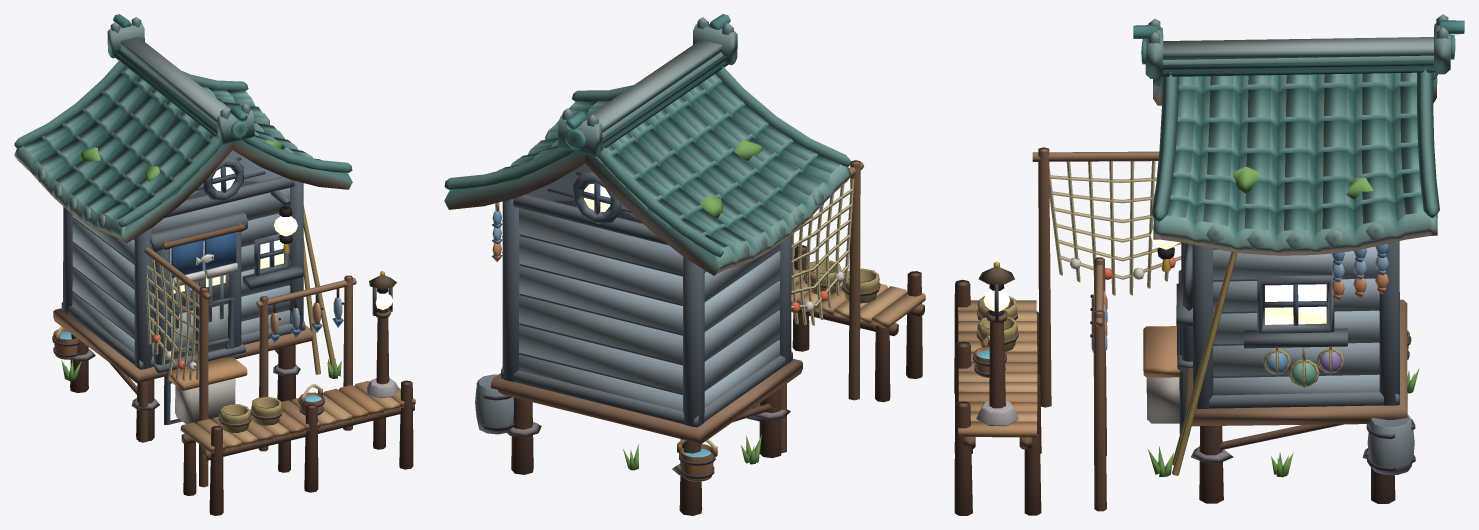
Rendered from fishingHut-2.glb.
3 views of the same model, side by side, from view 1: azimuth 30°, elevation 25°; view 2: azimuth 150°, elevation 25°; view 3: azimuth 270°, elevation 25° (orthographic). The views are drawn at different scales.
Visible parts, largest first — view 1: fishingHut-2, window_glow; view 2: fishingHut-2; view 3: fishingHut-2, window_glow.
Part boxes in pixels (left/top/right/bottom): fishingHut-2: left=14, top=14, right=415, bottom=515; window_glow: left=173, top=167, right=392, bottom=309; fishingHut-2: left=444, top=14, right=925, bottom=515; fishingHut-2: left=954, top=14, right=1464, bottom=515; window_glow: left=983, top=229, right=1326, bottom=324.
Bounding box in the file's own units: 2.22 × 3.04 × 3.24.
